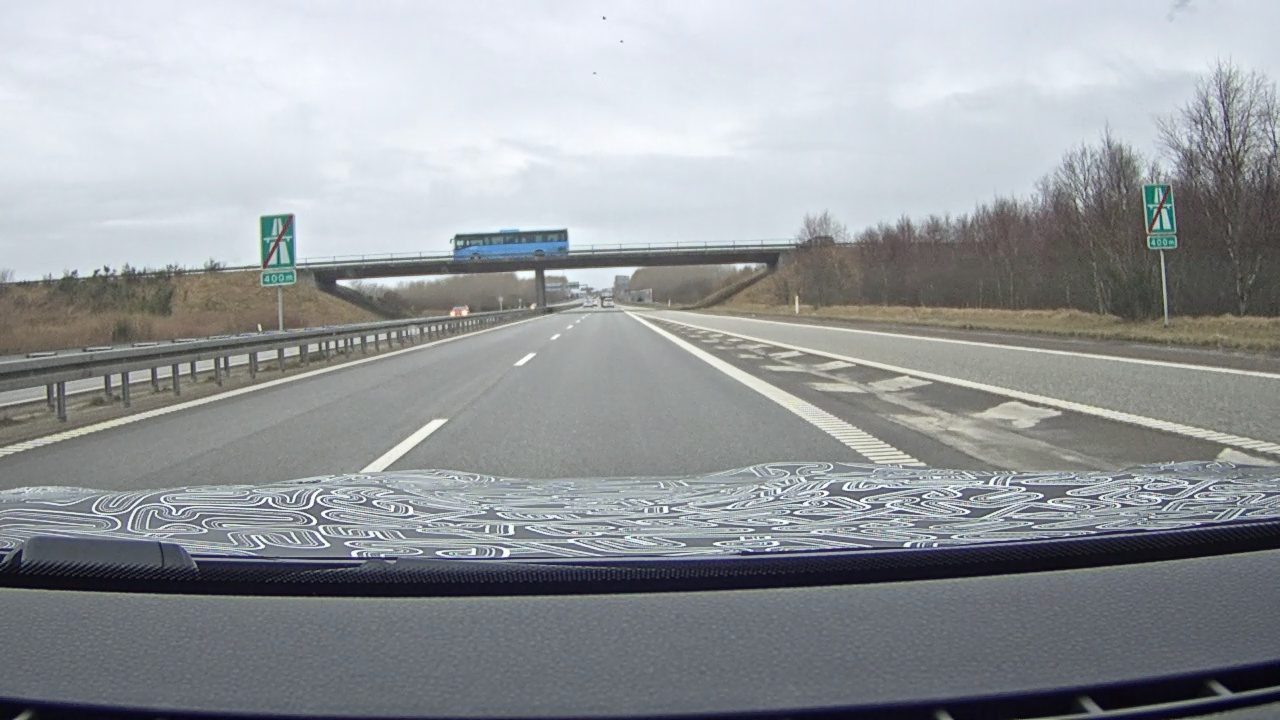Regular_End_Of_Motorway: (259, 213, 296, 270), (1141, 183, 1178, 235)
